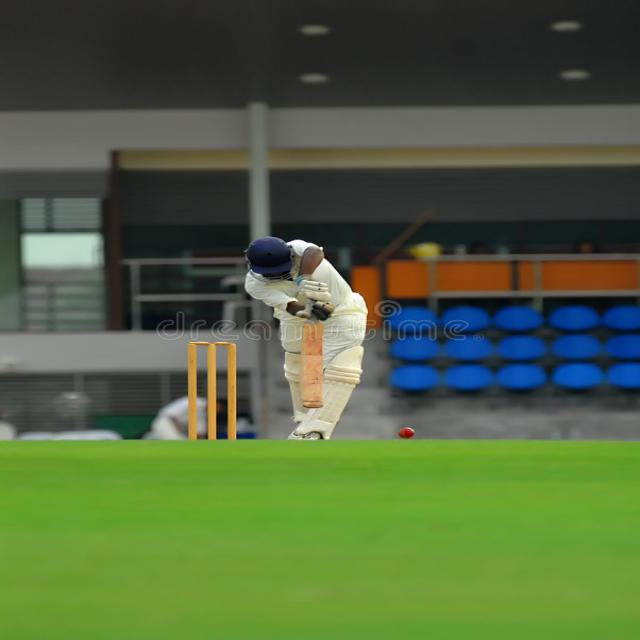ball: (392, 423, 420, 442)
stump: (183, 336, 241, 442)
